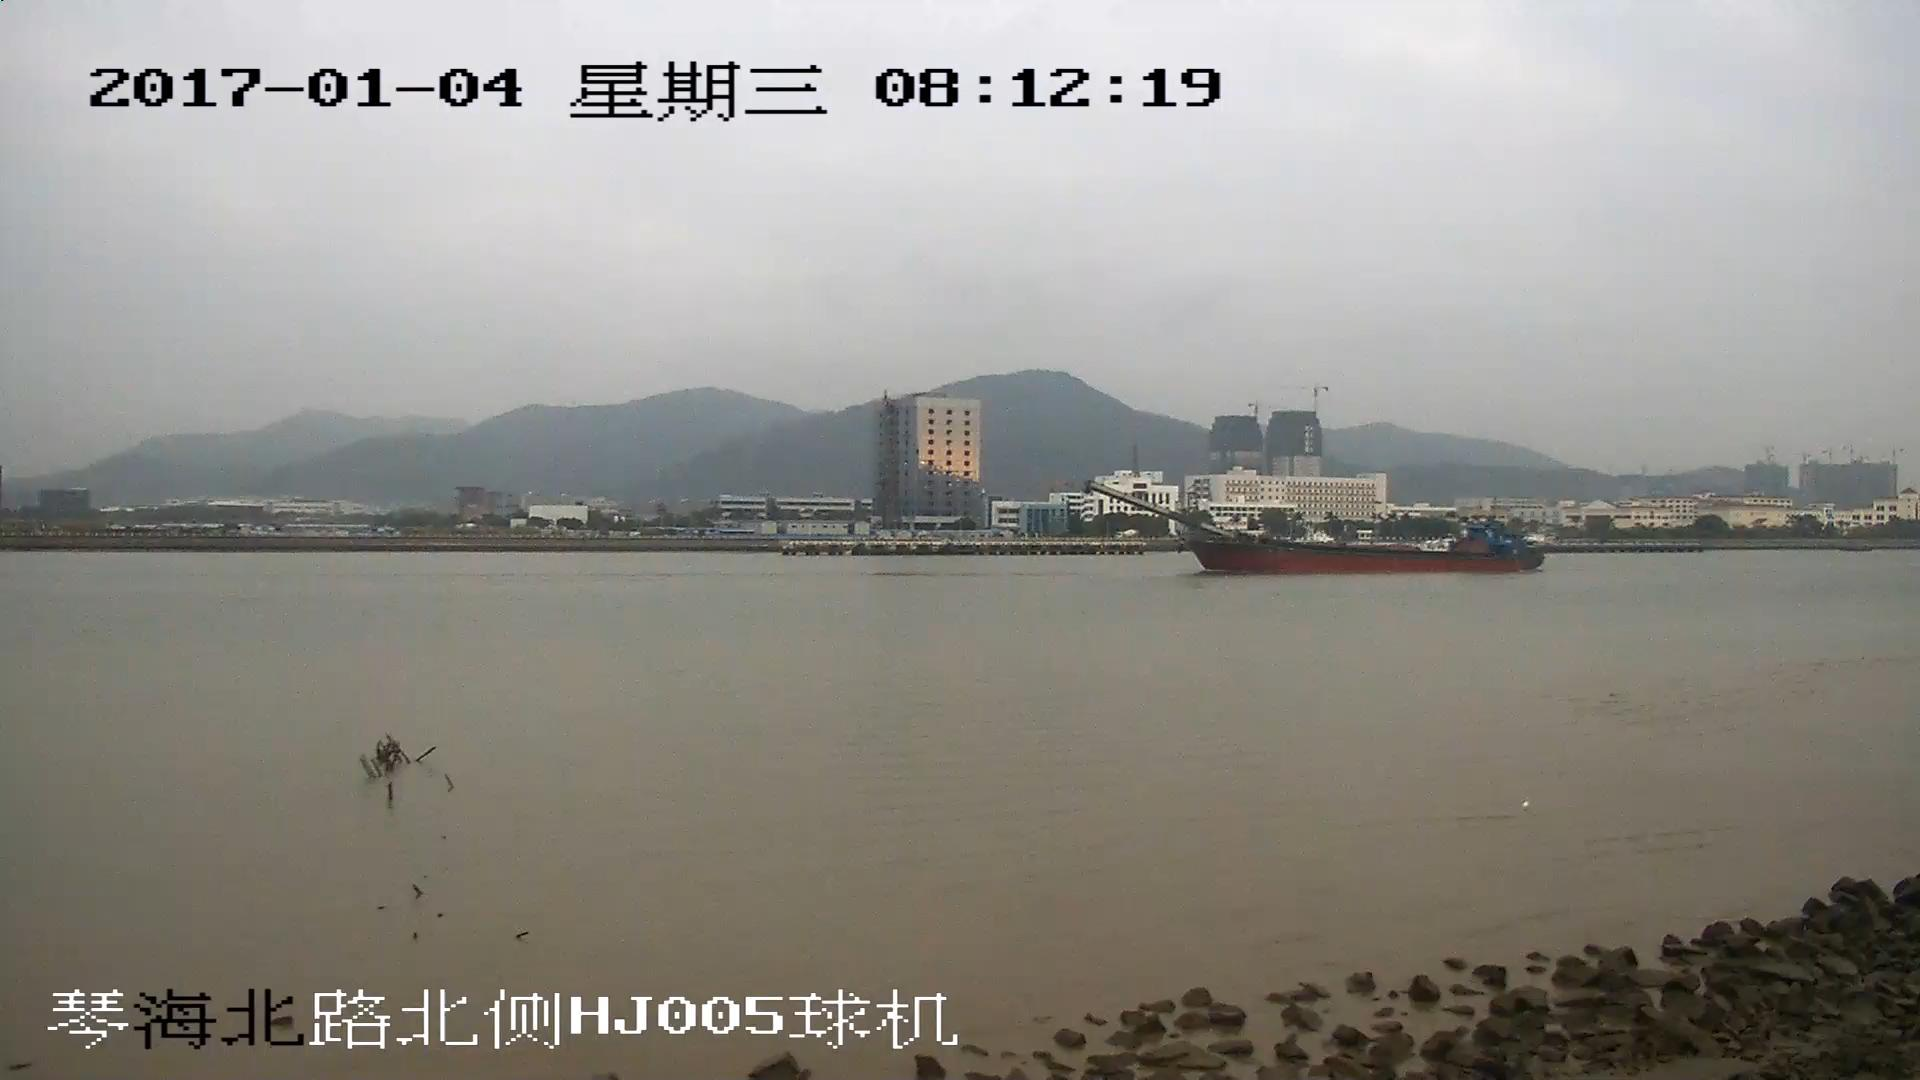Ship: (1091, 481, 1540, 574)
